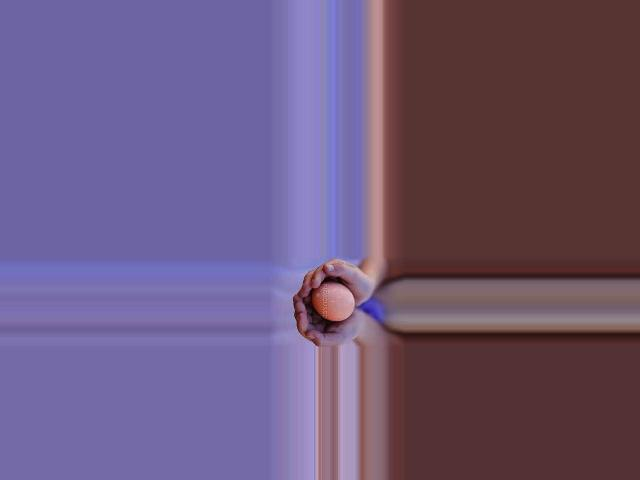egg: (311, 282, 355, 322)
